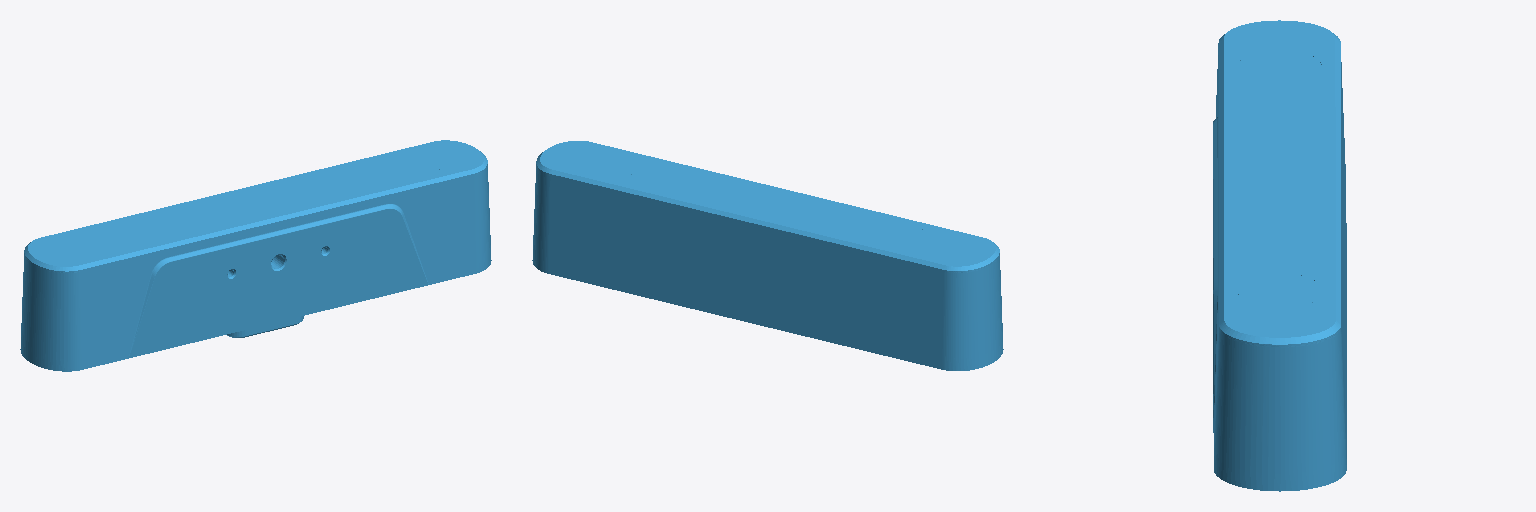
The robot description file, URDF, robot "zed":
<?xml version="1.0" ?>
<robot name="zed">
    <material name="mat">
        <texture filename="zed.mtl"/>
    </material>

    <link name="base_link"/>

    <!--    Define the mounting plates for the robot arms-->
    <link name="zed_link">
        <visual>
            <origin xyz="0 0 0" rpy="0 0 0"/>
            <geometry>
                <mesh filename="zed.obj" scale="0.1 0.1 0.1"/>
            </geometry>
<!--            <material name="mat"/>-->
        </visual>
        <collision>
            <origin xyz="-0.005 0 0.001" rpy="0 0 0"/>
            <geometry>
                <box size="0.043 0.175 0.03"/>
            </geometry>
        </collision>
        <inertial>
            <mass value="0.230"/>
        </inertial>
    </link>

    <joint name="base_link_2_zed_link" type="fixed">
        <parent link="base_link"/>
        <child link="zed_link"/>
        <origin xyz="0 0 0.00" rpy="0 -1.57 -1.57"/> # camera is modelled with X+ forward but for us it is Z+ forward
    </joint>

<!--    Virtual frames -->
</robot>

--- Facts derived from the render (not from the file) ---
3 views of the same robot in one strip: view 1: azimuth 30°, elevation 25°; view 2: azimuth 150°, elevation 25°; view 3: azimuth 270°, elevation 25° (orthographic).
Model zed with 2 links and 1 joints (1 fixed), rooted at base_link, posed all joints at 0.
Visible links, largest first — view 1: zed_link; view 2: zed_link; view 3: zed_link.
Link boxes in pixels (<box>): zed_link: <box>20,140,491,371</box>; zed_link: <box>532,141,1003,370</box>; zed_link: <box>1213,20,1346,491</box>.
Size in the robot's own frame: 0.1753 by 0.0304 by 0.0431 metres.
Meshes: 1 distinct files referenced, 1 mesh visuals loaded (1 OBJ).
